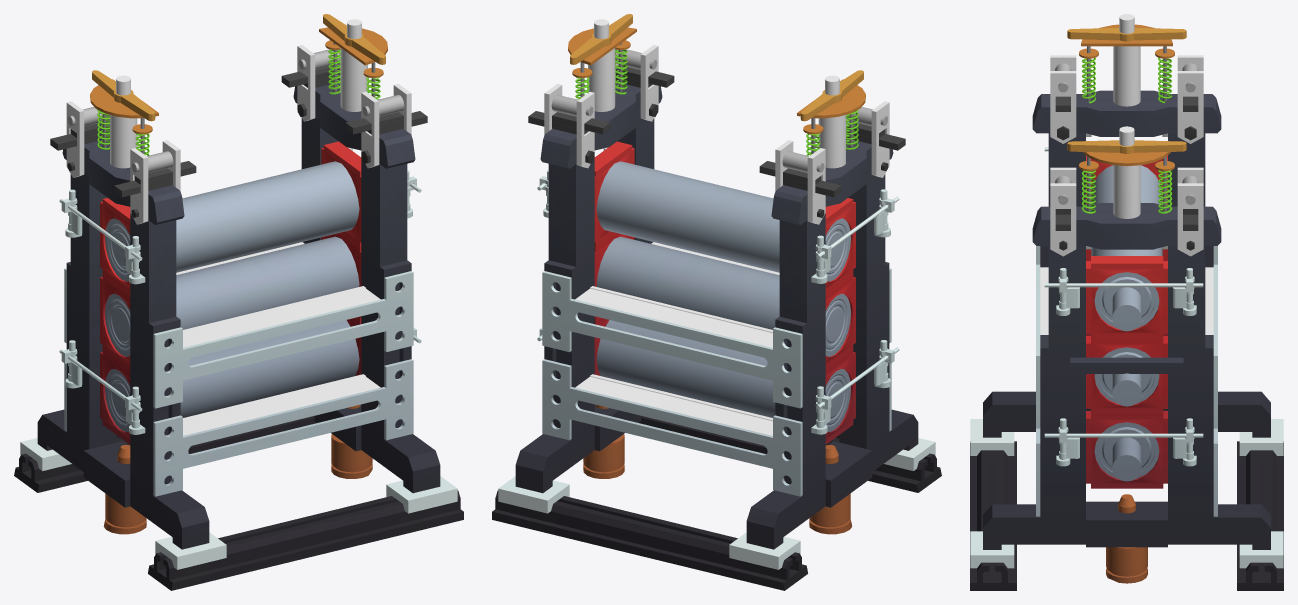
Rendered from Zhuzhaji.glb.
3 renders of one model, left to right at view 1: azimuth 30°, elevation 25°; view 2: azimuth 150°, elevation 25°; view 3: azimuth 270°, elevation 25°, orthographic.
Parts seen in each view (by area): view 1: Zhuzhaji; view 2: Zhuzhaji; view 3: Zhuzhaji.
Part boxes in pixels (<box>): Zhuzhaji: <box>14,14,463,590</box>; Zhuzhaji: <box>492,14,941,590</box>; Zhuzhaji: <box>970,14,1283,590</box>.
Size of the model in its own units: 7.02 by 9.8 by 6.25.
Materials: 1 (1 with a texture image).
